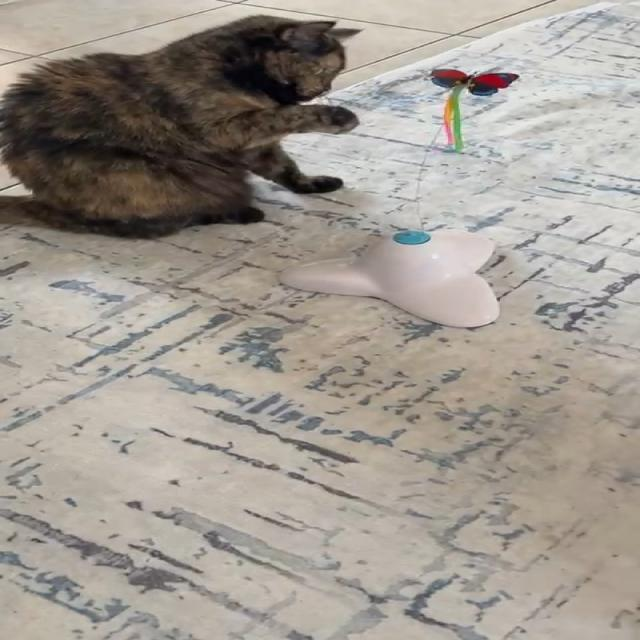authorized: (0, 14, 364, 239)
